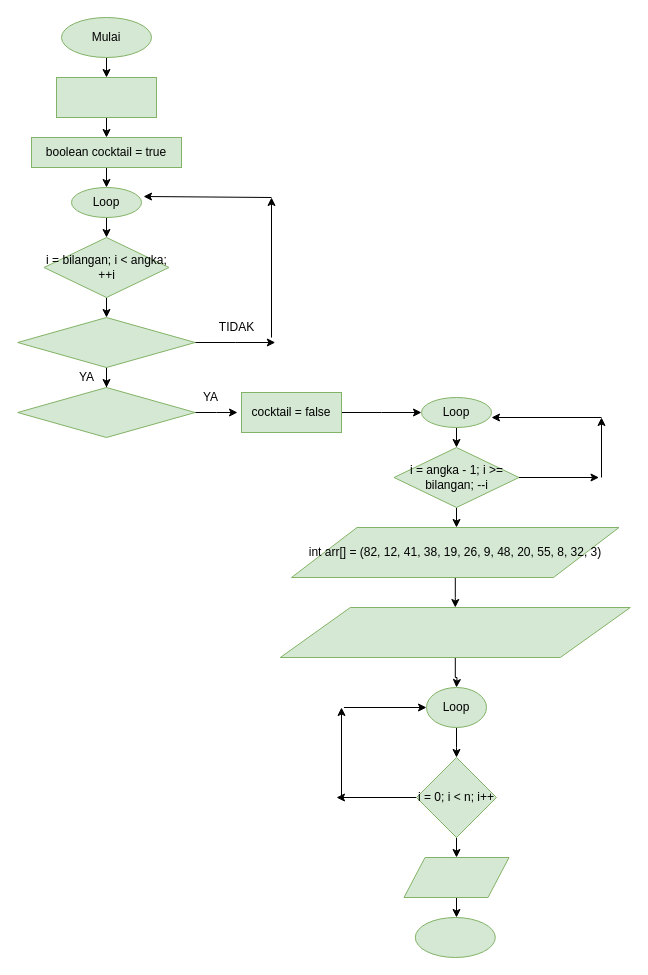
This 648x975 diagram has some shape labels left out. The box of each missing label's shape, as (x1, y1, x2, y2) in pixels:
if !cocktail: (17, 386, 195, 438)
if indeks[i] > indeks[i + 1]: (17, 316, 195, 368)
int indeks[], x: (56, 76, 156, 118)
Print array: (403, 856, 509, 898)
Print Array setelah diurutkan menggunakan Cocktail: (279, 606, 630, 658)
